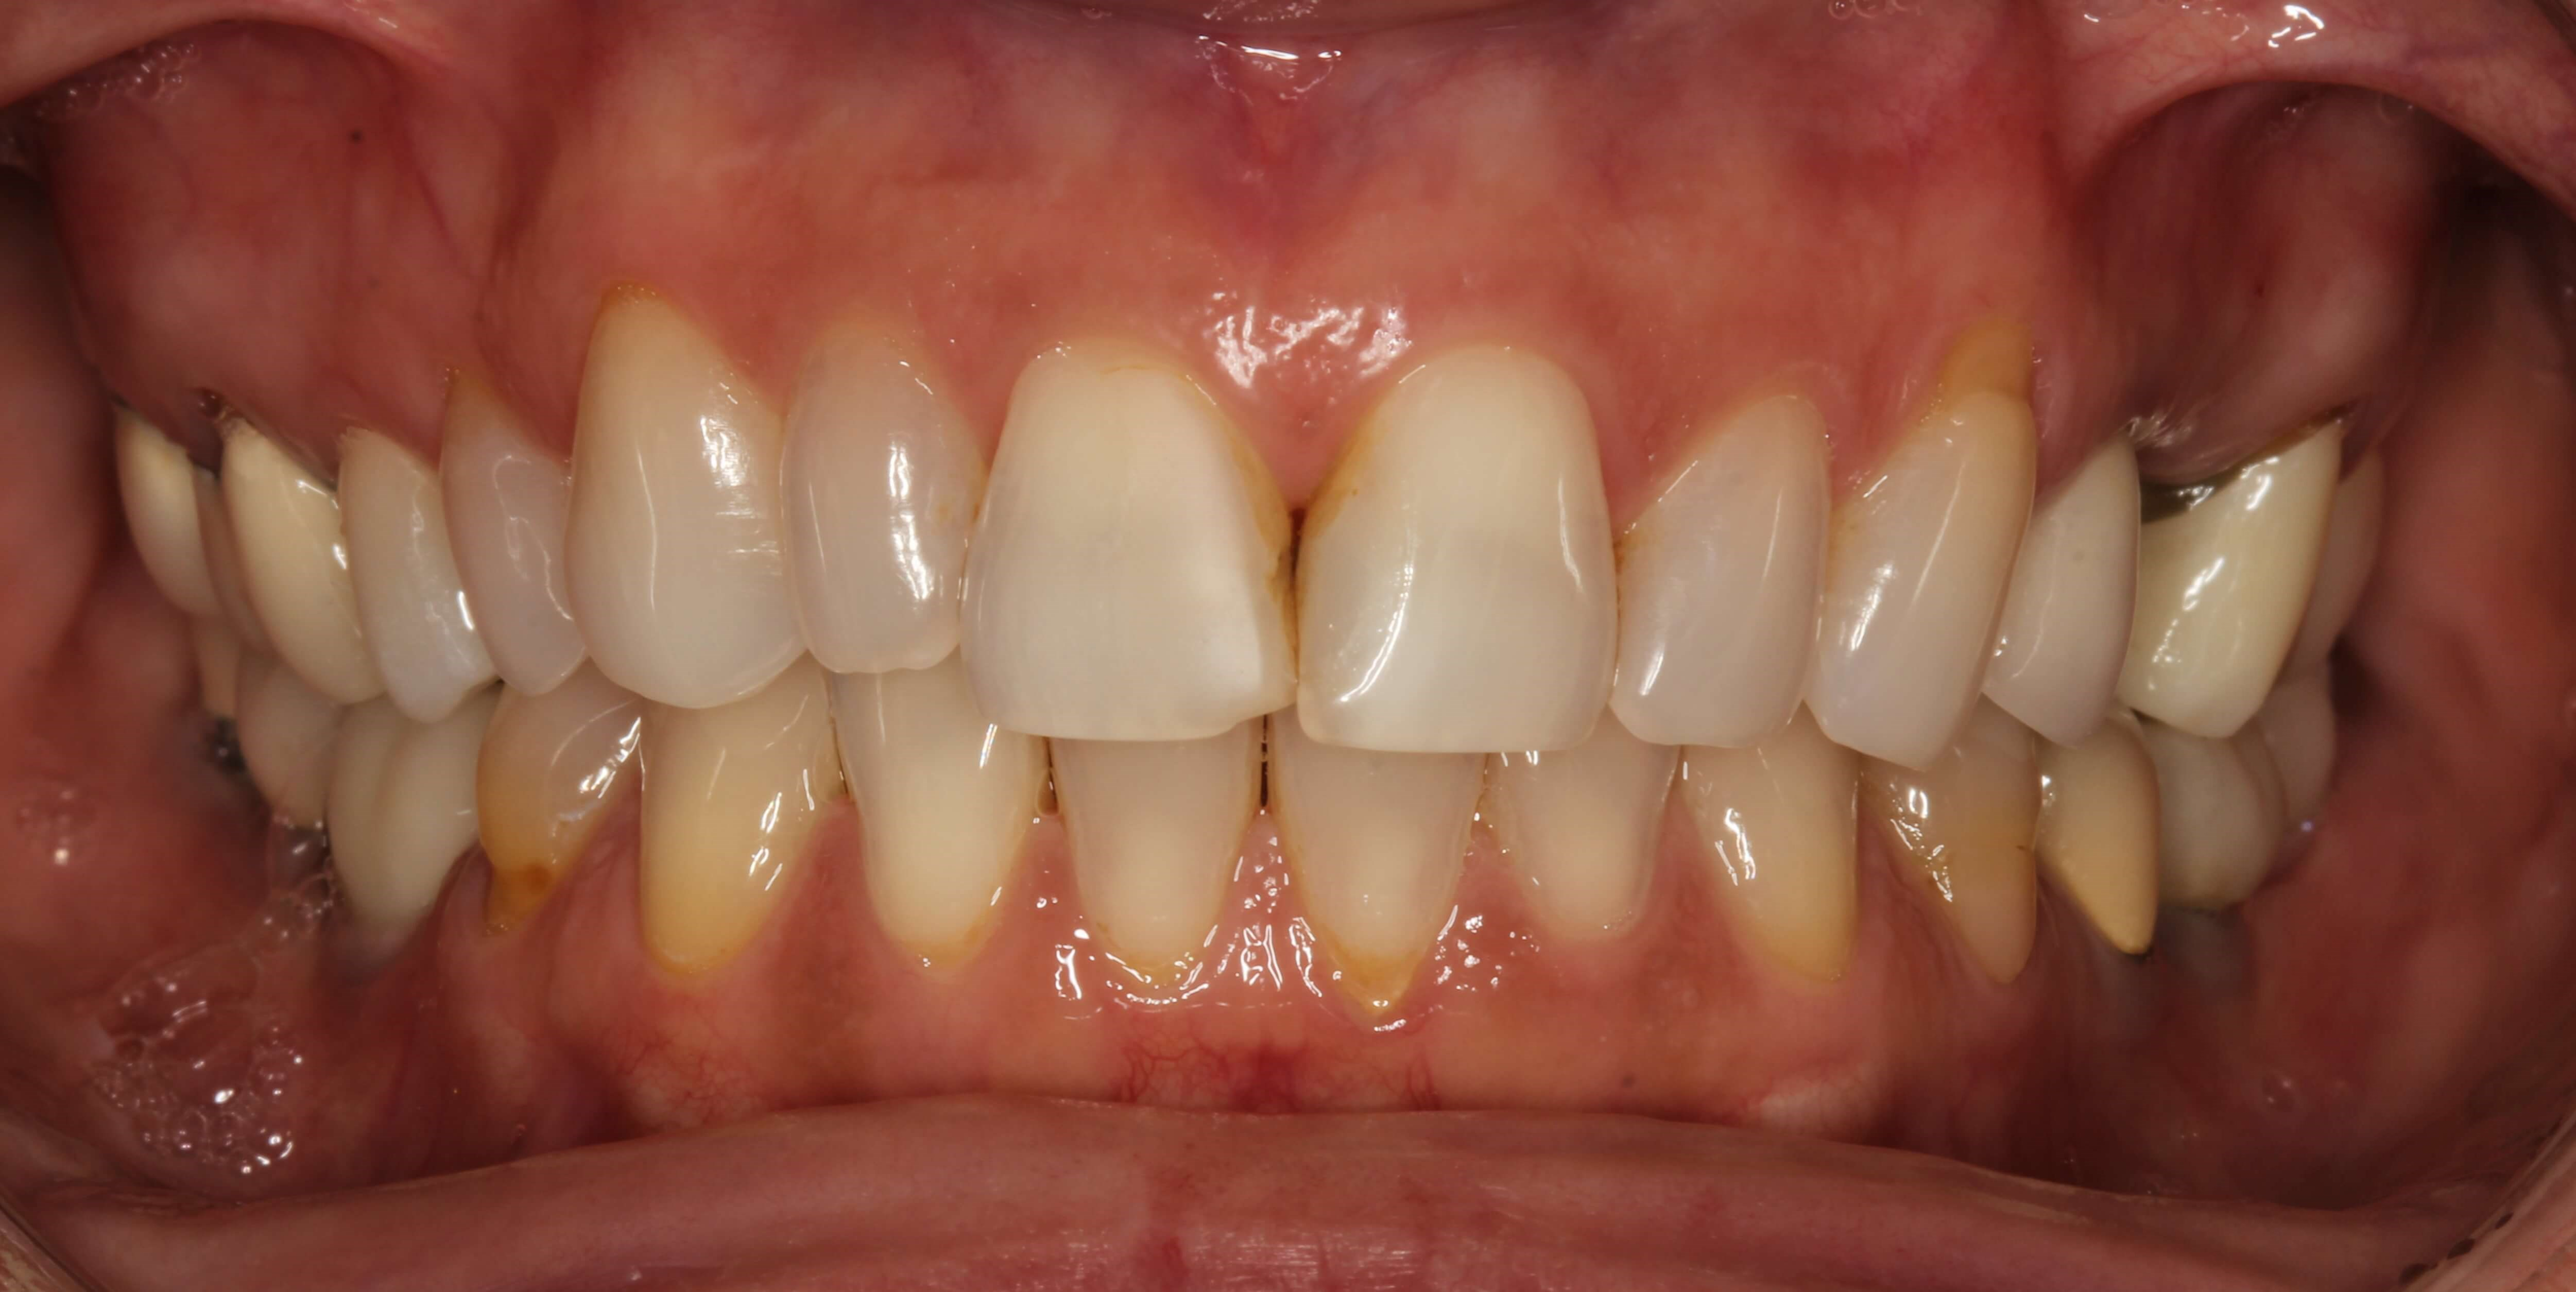LL1BC_healthy: (1874, 753, 2044, 976)
LL1M_healthy: (2166, 745, 2284, 903)
LL2BC_healthy: (2045, 748, 2159, 954)
LL2M_healthy: (2278, 692, 2325, 803)
LLCI_healthy: (1282, 756, 1478, 953)
LLC_healthy: (1679, 751, 1864, 972)
LLLI_healthy: (1488, 751, 1678, 941)
LR1BC_decay: (478, 700, 628, 916)
LR1M_healthy: (242, 687, 325, 817)
LR2BC_healthy: (328, 727, 473, 926)
LRCI_healthy: (1051, 742, 1258, 967)
LRC_healthy: (639, 715, 834, 954)
LRLI_healthy: (832, 715, 1042, 944)
UL1BC_healthy: (2011, 438, 2144, 748)
UL1M_healthy: (2316, 452, 2377, 666)
UL2BC_decay: (2139, 415, 2335, 737)
ULCI_healthy: (1302, 354, 1614, 753)
ULC_healthy: (1823, 384, 2037, 770)
ULLI_healthy: (1614, 404, 1828, 745)
UR1BC_healthy: (442, 405, 577, 690)
UR1M_healthy: (221, 405, 353, 700)
UR2BC_healthy: (338, 438, 468, 717)
UR2M_healthy: (127, 430, 214, 620)
URCI_healthy: (964, 344, 1276, 737)
URC_healthy: (564, 305, 785, 705)
URLI_healthy: (785, 325, 967, 672)
